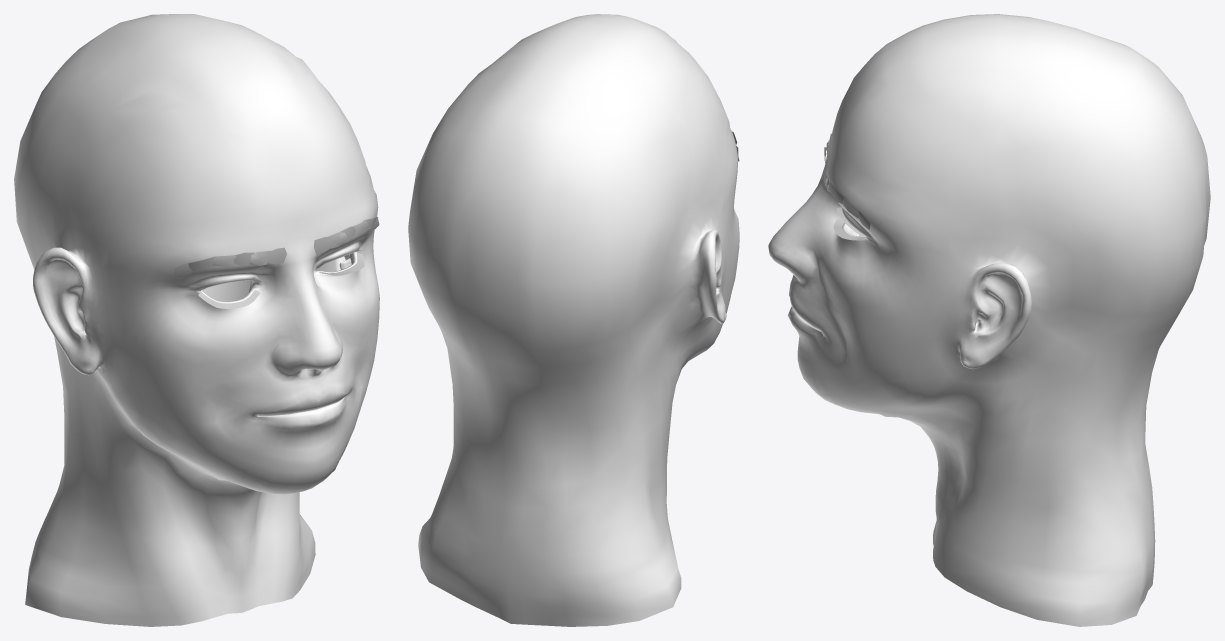
Rendered from eyeSquintLeft.obj.
The picture shows the model from 3 angles, left to right: view 1: azimuth 30°, elevation 25°; view 2: azimuth 150°, elevation 25°; view 3: azimuth 270°, elevation 25°; orthographic projection. The views are drawn at different scales.
Visible parts, largest first — view 1: FaceMesh_Plane.003; view 2: FaceMesh_Plane.003; view 3: FaceMesh_Plane.003.
Part boxes in pixels (x1=…): FaceMesh_Plane.003: x1=14, y1=14, x2=379, y2=626; FaceMesh_Plane.003: x1=408, y1=14, x2=739, y2=626; FaceMesh_Plane.003: x1=768, y1=14, x2=1210, y2=626.
Size of the model in its own units: 1.54 by 2.71 by 1.94.
5 materials, 1 textured.
